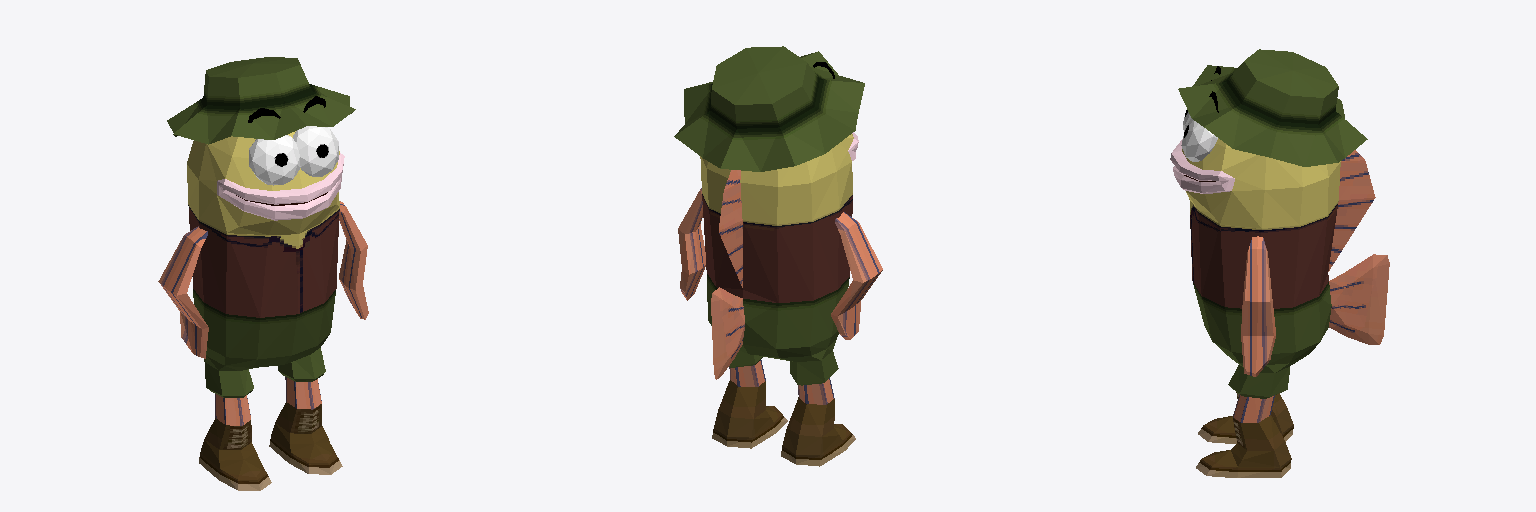
3 views of the same model, side by side, from view 1: azimuth 30°, elevation 25°; view 2: azimuth 150°, elevation 25°; view 3: azimuth 270°, elevation 25° (orthographic).
Visible parts, largest first — view 1: mesh0406.rip; view 2: mesh0406.rip; view 3: mesh0406.rip.
Part boxes in pixels (bbox=[...]): mesh0406.rip: bbox=[158, 57, 368, 490]; mesh0406.rip: bbox=[674, 46, 882, 466]; mesh0406.rip: bbox=[1170, 49, 1389, 477].
Size of the model in its own units: 1.41 by 2.7 by 1.37.
Materials: 1 (1 with a texture image).